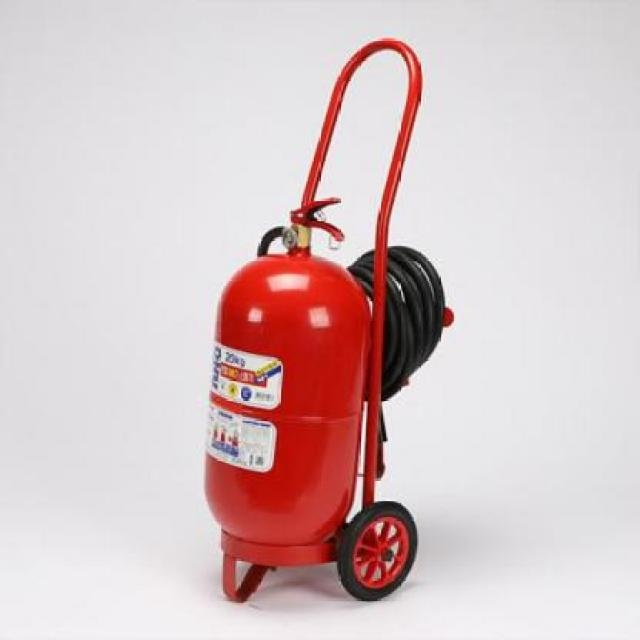fire extinguisher: (202, 197, 371, 546)
